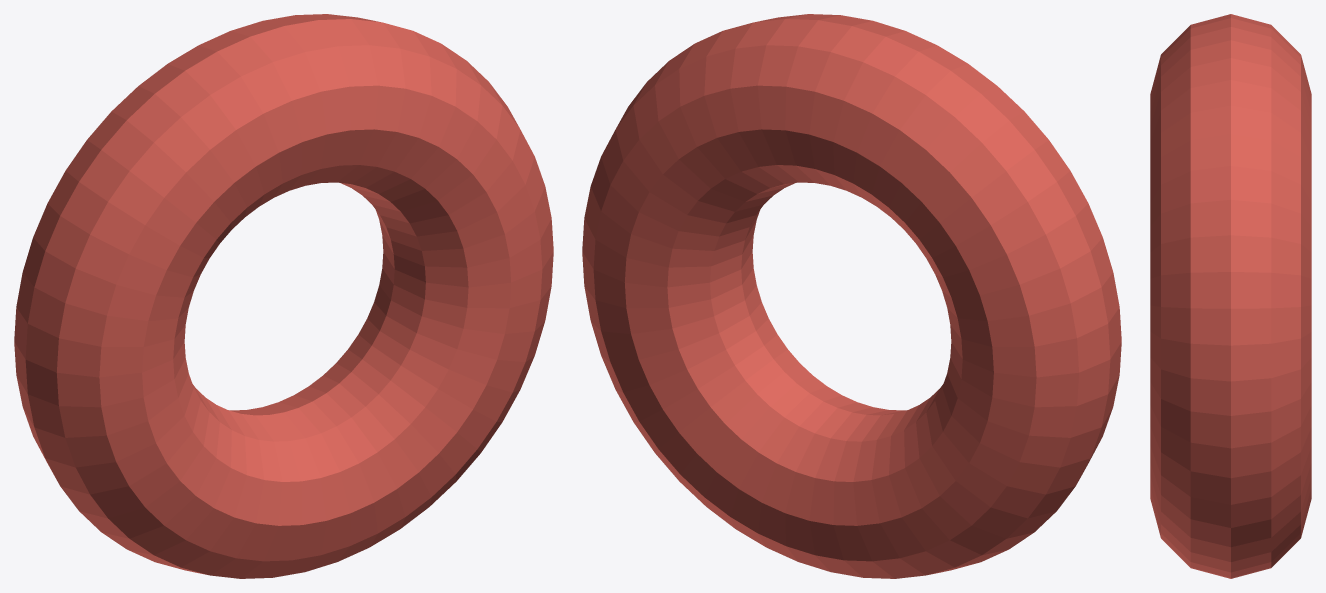
3 views of the same model, side by side, from view 1: azimuth 30°, elevation 25°; view 2: azimuth 150°, elevation 25°; view 3: azimuth 270°, elevation 25° (orthographic). The views are drawn at different scales.
Visible parts, largest first — view 1: MyNode; view 2: MyNode; view 3: MyNode.
Boxes of the visible parts, left/top/right/bottom form: MyNode: left=14, top=14, right=553, bottom=578; MyNode: left=582, top=14, right=1121, bottom=578; MyNode: left=1150, top=14, right=1311, bottom=578.
Size of the model in its own units: 2.8 by 2.8 by 0.8.
